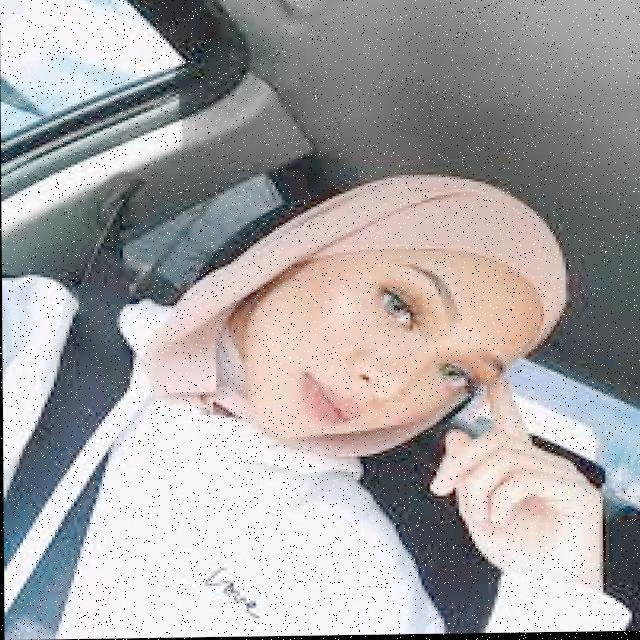seatbelt: (2, 305, 224, 640)
